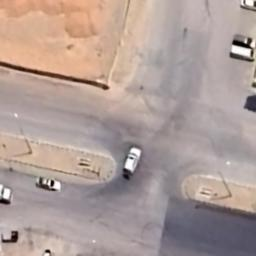SUV: (122, 148, 142, 174), (233, 34, 256, 48)
pickup: (33, 175, 66, 194)
sedan: (240, 0, 256, 10)
unknown: (0, 183, 13, 204)
van: (230, 44, 256, 62)
